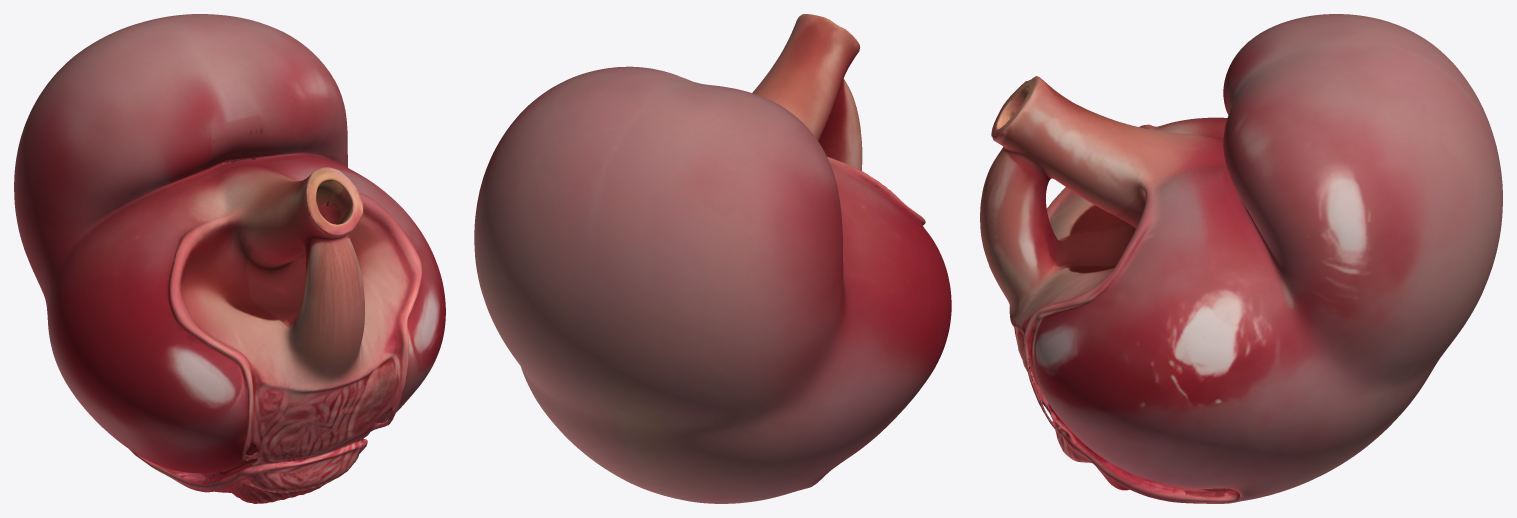
The model's file is vet_v2_path_pyometra.glb.
3 views of the same model, side by side, from view 1: azimuth 30°, elevation 25°; view 2: azimuth 150°, elevation 25°; view 3: azimuth 270°, elevation 25° (orthographic). The views are drawn at different scales.
Visible parts, largest first — view 1: model; view 2: model; view 3: model.
Boxes of the visible parts, x1=… form: model: x1=14, y1=14, x2=445, y2=503; model: x1=474, y1=14, x2=951, y2=503; model: x1=980, y1=14, x2=1502, y2=503.
Bounding box in the file's own units: 1.61 × 1.76 × 1.9.
1 material, 1 textured.
